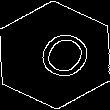O_SW: (20, 23, 90, 87)
